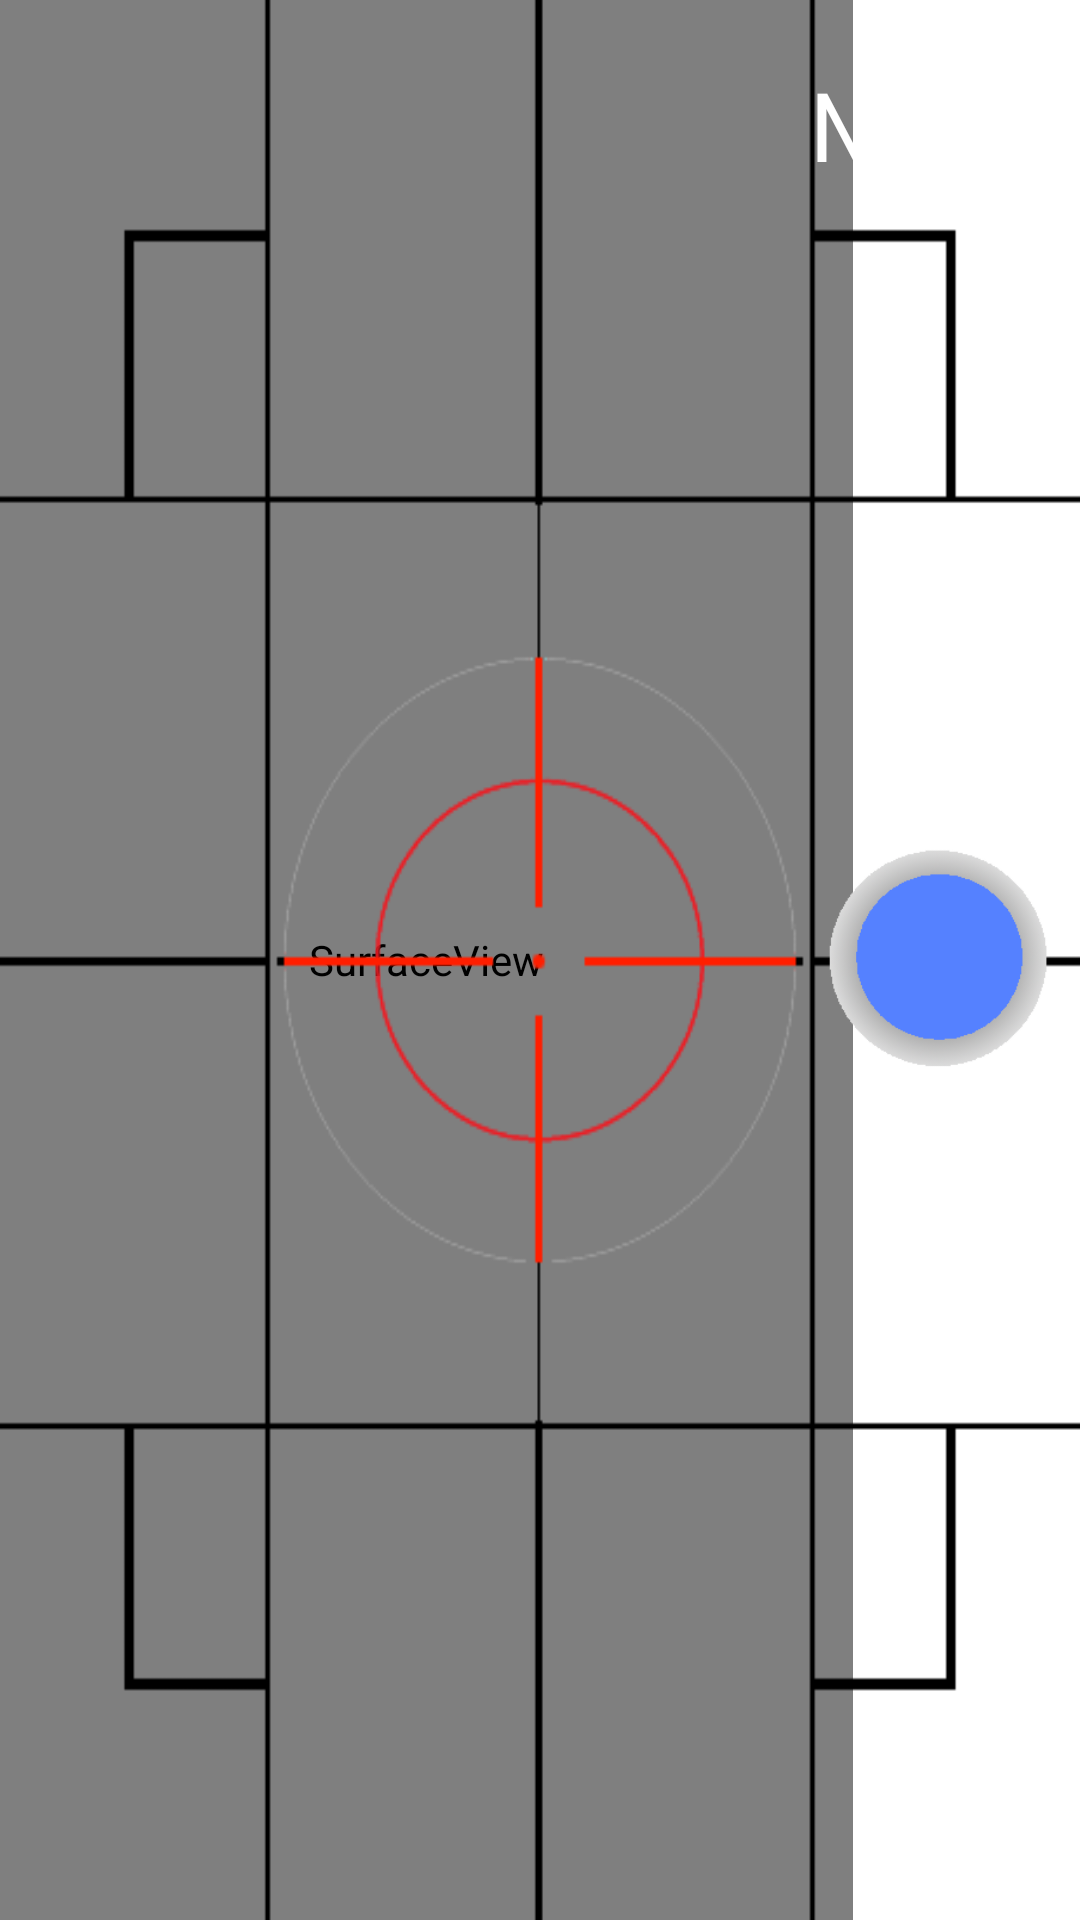

Where icons sit on this 1080*1920 app screen, as (x1, y1, x2, y2):
shutter: (825, 847, 1050, 1072)
